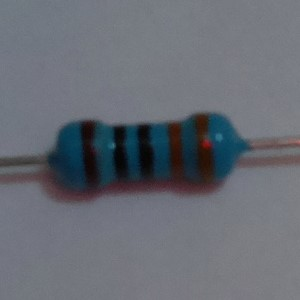black_band: (134, 122, 158, 182), (111, 122, 131, 182)
brown_band: (79, 118, 103, 190)
orange_band: (192, 112, 221, 185), (166, 119, 186, 183)
